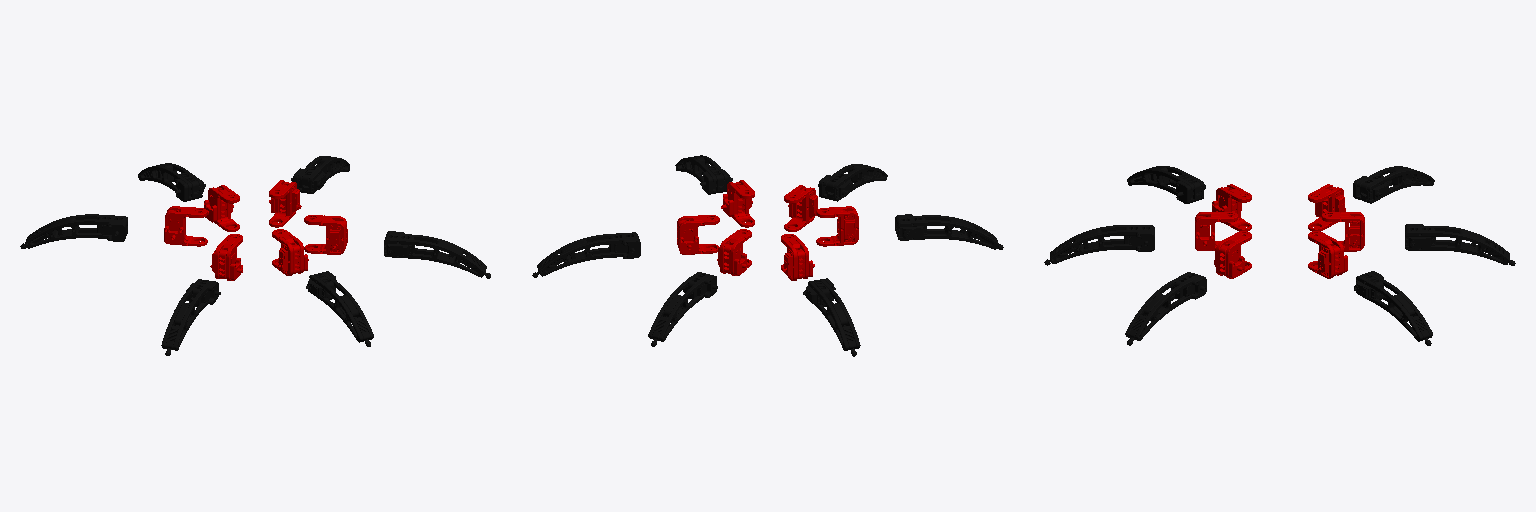
The robot description file, URDF, robot "hexapod_bot":
<?xml version="1.0"?>
<robot name="hexapod_bot">

  <material name="red"><color rgba="0.8 0 0 1"/></material>
  <material name="black"><color rgba="0.1 0.1 0.1 1"/></material>
  <material name="silver"><color rgba="0.75 0.75 0.75 1"/></material>

  <link name="base_link">
    <visual>
      <geometry><mesh filename="package://my_hexapod/meshes/base.stl" /></geometry>
      <material name="black"/>
      <origin xyz="0 0 0" rpy="0 0 0"/>
    </visual>
  </link>

  <joint name="joint_1_coxa" type="revolute">
    <parent link="base_link"/>
    <child link="leg_1_coxa"/>
    <origin xyz="0.0852 -0.06720000000000001 0" rpy="0 0 -0.668"/>
    <axis xyz="0 0 1"/>
    <limit lower="-1.57" upper="1.57" effort="1000" velocity="1.0"/>
  </joint>

  <link name="leg_1_coxa">
    <visual>
      <geometry><mesh filename="package://my_hexapod/meshes/coxa.stl"/></geometry>
      <origin xyz="0 0 0" rpy="0 0 0"/> <material name="red"/>
    </visual>
  </link>

  <joint name="joint_1_femur" type="revolute">
    <parent link="leg_1_coxa"/>
    <child link="leg_1_femur"/>
    <origin xyz="0.0464 0 0.015" rpy="0 0 0"/>
    <axis xyz="0 1 0"/>
    <limit lower="-1.57" upper="1.57" effort="1000" velocity="1.0"/>
  </joint>

  <link name="leg_1_femur">
    <visual>
      <geometry><mesh filename="package://my_hexapod/meshes/femur.stl"/></geometry>
      <origin xyz="0 0 0" rpy="0 0 0"/> <material name="silver"/>
    </visual>
  </link>

  <joint name="joint_1_tibia" type="revolute">
    <parent link="leg_1_femur"/>
    <child link="leg_1_tibia"/>
    <origin xyz="0.11 0 -0.0" rpy="0 0 0"/>
    <axis xyz="0 1 0"/>
    <limit lower="-3.14" upper="3.14" effort="1000" velocity="1.0"/>
  </joint>

  <link name="leg_1_tibia">
    <visual>
      <geometry><mesh filename="package://my_hexapod/meshes/tibia.stl"/></geometry>
      <origin xyz="0 0 0" rpy="0 0 0"/> <material name="black"/>
    </visual>
  </link>

  <joint name="joint_2_coxa" type="revolute">
    <parent link="base_link"/>
    <child link="leg_2_coxa"/>
    <origin xyz="0.0 -0.09259999999999999 0" rpy="0 0 -1.5708"/>
    <axis xyz="0 0 1"/>
    <limit lower="-1.57" upper="1.57" effort="1000" velocity="1.0"/>
  </joint>

  <link name="leg_2_coxa">
    <visual>
      <geometry><mesh filename="package://my_hexapod/meshes/coxa.stl"/></geometry>
      <origin xyz="0 0 0" rpy="0 0 0"/> <material name="red"/>
    </visual>
  </link>

  <joint name="joint_2_femur" type="revolute">
    <parent link="leg_2_coxa"/>
    <child link="leg_2_femur"/>
    <origin xyz="0.0464 0 0.015" rpy="0 0 0"/>
    <axis xyz="0 1 0"/>
    <limit lower="-1.57" upper="1.57" effort="1000" velocity="1.0"/>
  </joint>

  <link name="leg_2_femur">
    <visual>
      <geometry><mesh filename="package://my_hexapod/meshes/femur.stl"/></geometry>
      <origin xyz="0 0 0" rpy="0 0 0"/> <material name="silver"/>
    </visual>
  </link>

  <joint name="joint_2_tibia" type="revolute">
    <parent link="leg_2_femur"/>
    <child link="leg_2_tibia"/>
    <origin xyz="0.11 0 -0.0" rpy="0 0 0"/>
    <axis xyz="0 1 0"/>
    <limit lower="-3.14" upper="3.14" effort="1000" velocity="1.0"/>
  </joint>

  <link name="leg_2_tibia">
    <visual>
      <geometry><mesh filename="package://my_hexapod/meshes/tibia.stl"/></geometry>
      <origin xyz="0 0 0" rpy="0 0 0"/> <material name="black"/>
    </visual>
  </link>

  <joint name="joint_3_coxa" type="revolute">
    <parent link="base_link"/>
    <child link="leg_3_coxa"/>
    <origin xyz="-0.0852 -0.06720000000000001 0" rpy="0 0 -2.4735"/>
    <axis xyz="0 0 1"/>
    <limit lower="-1.57" upper="1.57" effort="1000" velocity="1.0"/>
  </joint>

  <link name="leg_3_coxa">
    <visual>
      <geometry><mesh filename="package://my_hexapod/meshes/coxa.stl"/></geometry>
      <origin xyz="0 0 0" rpy="0 0 0"/> <material name="red"/>
    </visual>
  </link>

  <joint name="joint_3_femur" type="revolute">
    <parent link="leg_3_coxa"/>
    <child link="leg_3_femur"/>
    <origin xyz="0.0464 0 0.015" rpy="0 0 0"/>
    <axis xyz="0 1 0"/>
    <limit lower="-1.57" upper="1.57" effort="1000" velocity="1.0"/>
  </joint>

  <link name="leg_3_femur">
    <visual>
      <geometry><mesh filename="package://my_hexapod/meshes/femur.stl"/></geometry>
      <origin xyz="0 0 0" rpy="0 0 0"/> <material name="silver"/>
    </visual>
  </link>

  <joint name="joint_3_tibia" type="revolute">
    <parent link="leg_3_femur"/>
    <child link="leg_3_tibia"/>
    <origin xyz="0.11 0 -0.0" rpy="0 0 0"/>
    <axis xyz="0 1 0"/>
    <limit lower="-3.14" upper="3.14" effort="1000" velocity="1.0"/>
  </joint>

  <link name="leg_3_tibia">
    <visual>
      <geometry><mesh filename="package://my_hexapod/meshes/tibia.stl"/></geometry>
      <origin xyz="0 0 0" rpy="0 0 0"/> <material name="black"/>
    </visual>
  </link>

  <joint name="joint_4_coxa" type="revolute">
    <parent link="base_link"/>
    <child link="leg_4_coxa"/>
    <origin xyz="-0.0852 0.06720000000000001 0" rpy="0 0 2.4735"/>
    <axis xyz="0 0 1"/>
    <limit lower="-1.57" upper="1.57" effort="1000" velocity="1.0"/>
  </joint>

  <link name="leg_4_coxa">
    <visual>
      <geometry><mesh filename="package://my_hexapod/meshes/coxa.stl"/></geometry>
      <origin xyz="0 0 0" rpy="0 0 0"/> <material name="red"/>
    </visual>
  </link>

  <joint name="joint_4_femur" type="revolute">
    <parent link="leg_4_coxa"/>
    <child link="leg_4_femur"/>
    <origin xyz="0.0464 0 0.015" rpy="0 0 0"/>
    <axis xyz="0 1 0"/>
    <limit lower="-1.57" upper="1.57" effort="1000" velocity="1.0"/>
  </joint>

  <link name="leg_4_femur">
    <visual>
      <geometry><mesh filename="package://my_hexapod/meshes/femur.stl"/></geometry>
      <origin xyz="0 0 0" rpy="0 0 0"/> <material name="silver"/>
    </visual>
  </link>

  <joint name="joint_4_tibia" type="revolute">
    <parent link="leg_4_femur"/>
    <child link="leg_4_tibia"/>
    <origin xyz="0.11 0 -0.0" rpy="0 0 0"/>
    <axis xyz="0 1 0"/>
    <limit lower="-3.14" upper="3.14" effort="1000" velocity="1.0"/>
  </joint>

  <link name="leg_4_tibia">
    <visual>
      <geometry><mesh filename="package://my_hexapod/meshes/tibia.stl"/></geometry>
      <origin xyz="0 0 0" rpy="0 0 0"/> <material name="black"/>
    </visual>
  </link>

  <joint name="joint_5_coxa" type="revolute">
    <parent link="base_link"/>
    <child link="leg_5_coxa"/>
    <origin xyz="0.0 0.09259999999999999 0" rpy="0 0 1.5708"/>
    <axis xyz="0 0 1"/>
    <limit lower="-1.57" upper="1.57" effort="1000" velocity="1.0"/>
  </joint>

  <link name="leg_5_coxa">
    <visual>
      <geometry><mesh filename="package://my_hexapod/meshes/coxa.stl"/></geometry>
      <origin xyz="0 0 0" rpy="0 0 0"/> <material name="red"/>
    </visual>
  </link>

  <joint name="joint_5_femur" type="revolute">
    <parent link="leg_5_coxa"/>
    <child link="leg_5_femur"/>
    <origin xyz="0.0464 0 0.015" rpy="0 0 0"/>
    <axis xyz="0 1 0"/>
    <limit lower="-1.57" upper="1.57" effort="1000" velocity="1.0"/>
  </joint>

  <link name="leg_5_femur">
    <visual>
      <geometry><mesh filename="package://my_hexapod/meshes/femur.stl"/></geometry>
      <origin xyz="0 0 0" rpy="0 0 0"/> <material name="silver"/>
    </visual>
  </link>

  <joint name="joint_5_tibia" type="revolute">
    <parent link="leg_5_femur"/>
    <child link="leg_5_tibia"/>
    <origin xyz="0.11 0 -0.0" rpy="0 0 0"/>
    <axis xyz="0 1 0"/>
    <limit lower="-3.14" upper="3.14" effort="1000" velocity="1.0"/>
  </joint>

  <link name="leg_5_tibia">
    <visual>
      <geometry><mesh filename="package://my_hexapod/meshes/tibia.stl"/></geometry>
      <origin xyz="0 0 0" rpy="0 0 0"/> <material name="black"/>
    </visual>
  </link>

  <joint name="joint_6_coxa" type="revolute">
    <parent link="base_link"/>
    <child link="leg_6_coxa"/>
    <origin xyz="0.0852 0.06720000000000001 0" rpy="0 0 0.668"/>
    <axis xyz="0 0 1"/>
    <limit lower="-1.57" upper="1.57" effort="1000" velocity="1.0"/>
  </joint>

  <link name="leg_6_coxa">
    <visual>
      <geometry><mesh filename="package://my_hexapod/meshes/coxa.stl"/></geometry>
      <origin xyz="0 0 0" rpy="0 0 0"/> <material name="red"/>
    </visual>
  </link>

  <joint name="joint_6_femur" type="revolute">
    <parent link="leg_6_coxa"/>
    <child link="leg_6_femur"/>
    <origin xyz="0.0464 0 0.015" rpy="0 0 0"/>
    <axis xyz="0 1 0"/>
    <limit lower="-1.57" upper="1.57" effort="1000" velocity="1.0"/>
  </joint>

  <link name="leg_6_femur">
    <visual>
      <geometry><mesh filename="package://my_hexapod/meshes/femur.stl"/></geometry>
      <origin xyz="0 0 0" rpy="0 0 0"/> <material name="silver"/>
    </visual>
  </link>

  <joint name="joint_6_tibia" type="revolute">
    <parent link="leg_6_femur"/>
    <child link="leg_6_tibia"/>
    <origin xyz="0.11 0 -0.0" rpy="0 0 0"/>
    <axis xyz="0 1 0"/>
    <limit lower="-3.14" upper="3.14" effort="1000" velocity="1.0"/>
  </joint>

  <link name="leg_6_tibia">
    <visual>
      <geometry><mesh filename="package://my_hexapod/meshes/tibia.stl"/></geometry>
      <origin xyz="0 0 0" rpy="0 0 0"/> <material name="black"/>
    </visual>
  </link>
</robot>

--- Render facts (derived) ---
3 views of the same robot in one strip: view 1: azimuth 30°, elevation 25°; view 2: azimuth 150°, elevation 25°; view 3: azimuth 270°, elevation 25° (orthographic).
Robot: hexapod_bot — 19 links, 18 joints (18 revolute); root link base_link; default pose: every joint at zero.
Visible links, largest first — view 1: leg_1_tibia, leg_4_tibia, leg_2_tibia, leg_3_tibia, leg_5_tibia, leg_6_tibia, leg_4_coxa, leg_1_coxa, leg_2_coxa, leg_5_coxa, leg_6_coxa, leg_3_coxa; view 2: leg_6_tibia, leg_3_tibia, leg_5_tibia, leg_4_tibia, leg_2_tibia, leg_1_tibia, leg_3_coxa, leg_6_coxa, leg_2_coxa, leg_5_coxa, leg_1_coxa, leg_4_coxa; view 3: leg_5_tibia, leg_2_tibia, leg_1_tibia, leg_6_tibia, leg_4_tibia, leg_3_tibia, leg_6_coxa, leg_1_coxa, leg_4_coxa, leg_3_coxa, leg_5_coxa, leg_2_coxa.
Link boxes in pixels (x1,y1,x2,y2): leg_1_tibia: (384, 231, 490, 278); leg_4_tibia: (20, 214, 127, 248); leg_2_tibia: (306, 271, 373, 346); leg_3_tibia: (161, 279, 220, 355); leg_5_tibia: (138, 163, 205, 201); leg_6_tibia: (291, 156, 349, 193); leg_4_coxa: (164, 206, 207, 246); leg_1_coxa: (304, 215, 347, 254); leg_2_coxa: (272, 229, 308, 275); leg_5_coxa: (204, 185, 239, 231); leg_6_coxa: (269, 180, 301, 227); leg_3_coxa: (210, 234, 242, 280); leg_6_tibia: (532, 232, 640, 277); leg_3_tibia: (895, 214, 1003, 249); leg_5_tibia: (648, 272, 717, 346); leg_4_tibia: (803, 278, 860, 356); leg_2_tibia: (818, 164, 887, 201); leg_1_tibia: (675, 155, 732, 194); leg_3_coxa: (816, 206, 858, 246); leg_6_coxa: (677, 215, 719, 254); leg_2_coxa: (784, 185, 817, 231); leg_5_coxa: (717, 229, 751, 275); leg_1_coxa: (721, 180, 754, 227); leg_4_coxa: (781, 234, 814, 280); leg_5_tibia: (1405, 224, 1515, 265); leg_2_tibia: (1044, 225, 1154, 265); leg_1_tibia: (1125, 272, 1206, 345); leg_6_tibia: (1354, 271, 1432, 345); leg_4_tibia: (1353, 166, 1434, 203); leg_3_tibia: (1127, 166, 1205, 203); leg_6_coxa: (1308, 231, 1347, 278); leg_1_coxa: (1214, 231, 1251, 278); leg_4_coxa: (1308, 184, 1345, 231); leg_3_coxa: (1212, 184, 1251, 231); leg_5_coxa: (1322, 212, 1364, 251); leg_2_coxa: (1195, 212, 1237, 250).
Size in the robot's own frame: 0.7177 by 0.8768 by 0.1041 metres.
12 mesh visuals loaded from 4 distinct referenced files (2 binary STL); not drawn: 7 (reference not matched to a file when rendering).